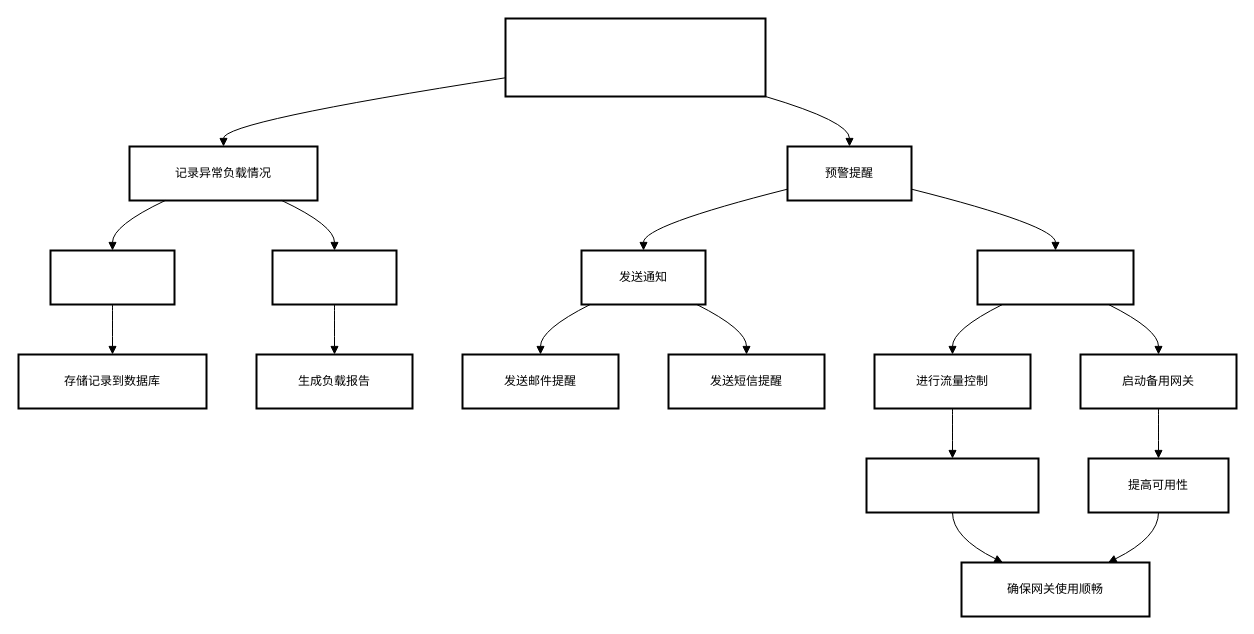
This 1254x634 diagram has some shape labels left out. Here are the shapes that lost their labels. From the top down, the centre of each, then its label:
At (x=635, y=57): "支持监控对外服务网关的负载情况".
At (x=112, y=277): "日志记录".
At (x=334, y=277): "负载统计".
At (x=1055, y=277): "自动处理机制".
At (x=952, y=485): "减轻主网关负担".
